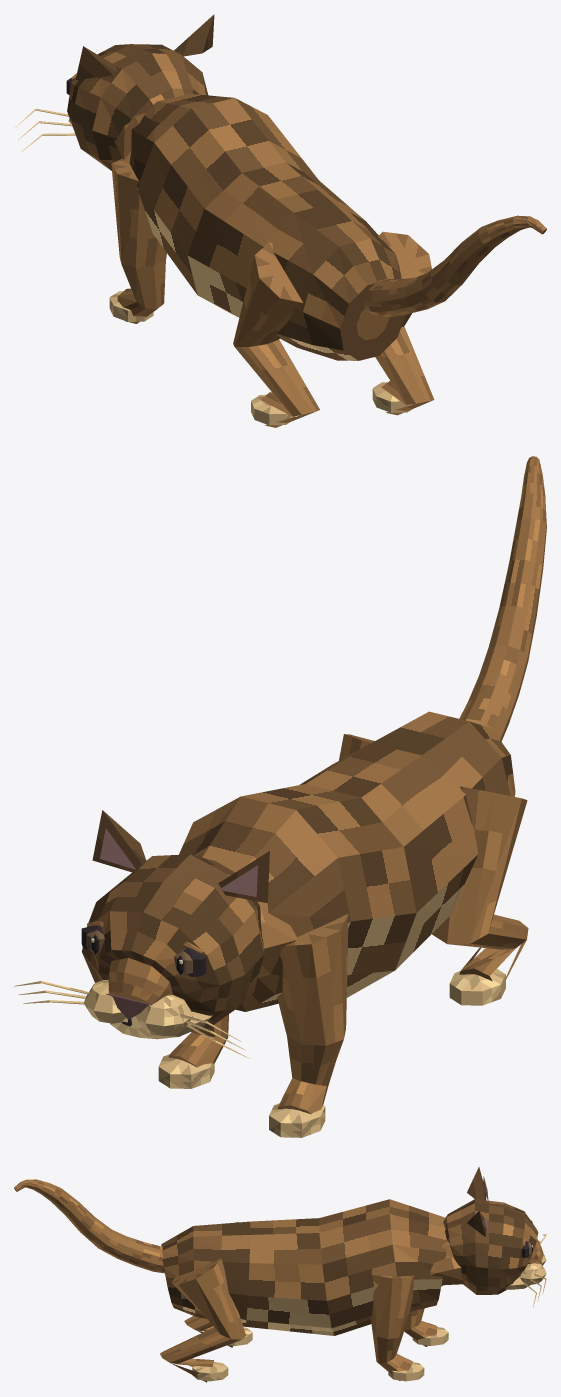
The model's file is mon_cat_bengal_kitten.glb.
3 views of the same model, one above another, from view 1: azimuth 30°, elevation 25°; view 2: azimuth 150°, elevation 25°; view 3: azimuth 270°, elevation 25° (orthographic). The views are drawn at different scales.
Visible parts, largest first — view 1: closed_body; view 2: closed_body; view 3: closed_body.
Boxes of the visible parts, x1,y1,x2,y2 form: closed_body: (14, 14, 546, 427); closed_body: (14, 456, 546, 1137); closed_body: (14, 1167, 546, 1382).
Bounding box in the file's own units: 0.0953 × 0.1499 × 0.3565.
1 material, 1 textured.
